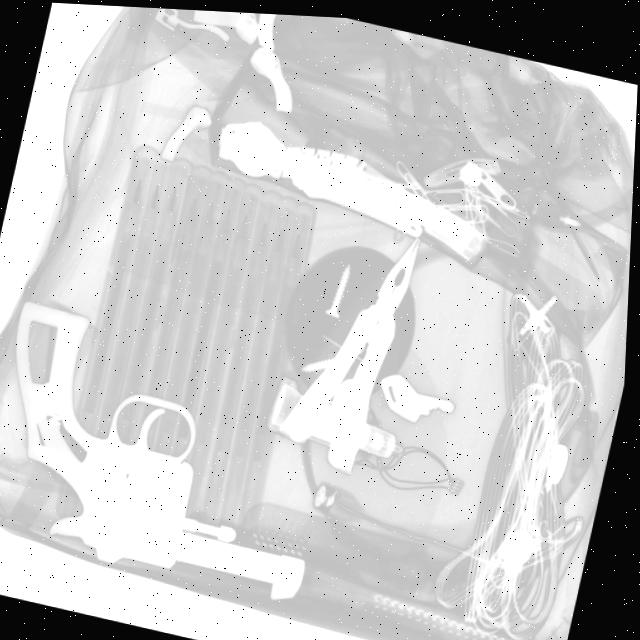pistol: (0, 289, 360, 611)
